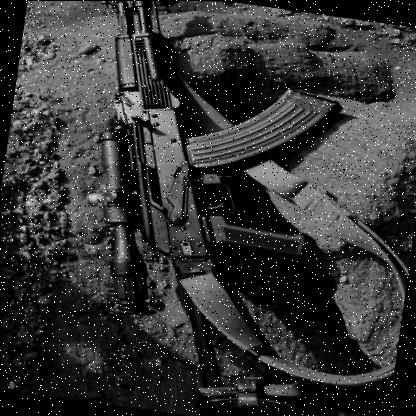rifle: (45, 0, 358, 416)
